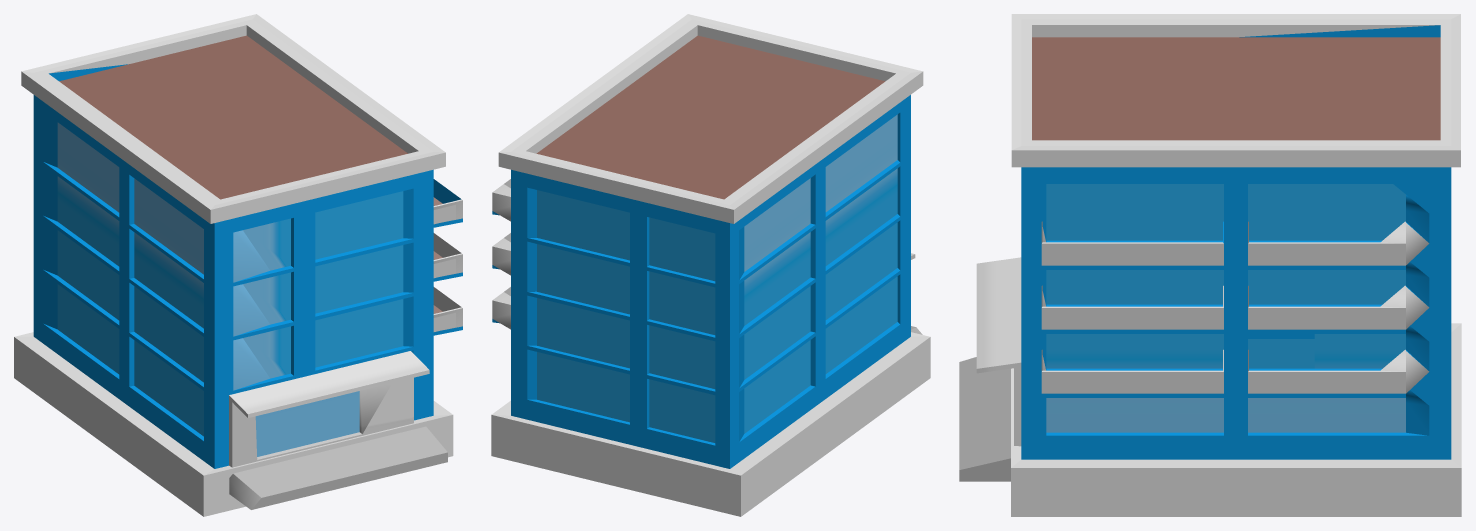
File: BlueBuilding6x4x6.fbx
The picture shows the model from 3 angles, left to right: view 1: azimuth 30°, elevation 25°; view 2: azimuth 150°, elevation 25°; view 3: azimuth 270°, elevation 25°; orthographic projection. The views are drawn at different scales.
Parts seen in each view (by area): view 1: House; view 2: House; view 3: House.
Boxes of the visible parts, x1,y1,x2,y2 form: House: (14, 14, 462, 516); House: (491, 14, 930, 516); House: (959, 14, 1461, 516).
Bounding box in the file's own units: 5.57 × 5.97 × 7.5.
Materials: 1 (1 with a texture image).
